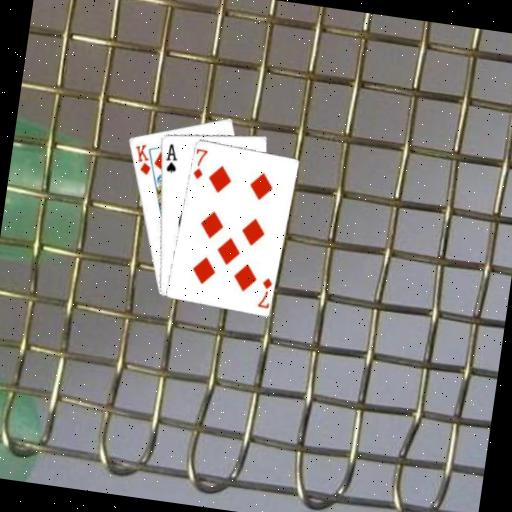7D: (190, 144, 210, 181), (254, 274, 274, 310)
AS: (160, 140, 181, 174)
KD: (128, 140, 156, 178)
